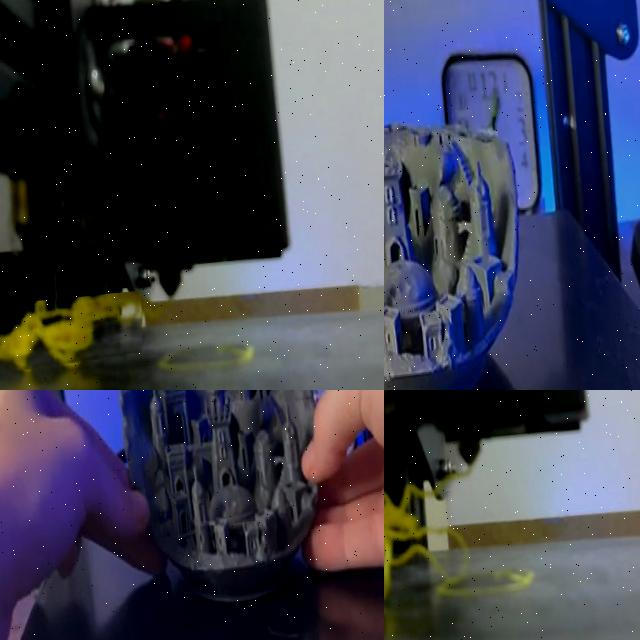spaghetti: (384, 484, 533, 597), (0, 293, 141, 370), (435, 473, 456, 492)
